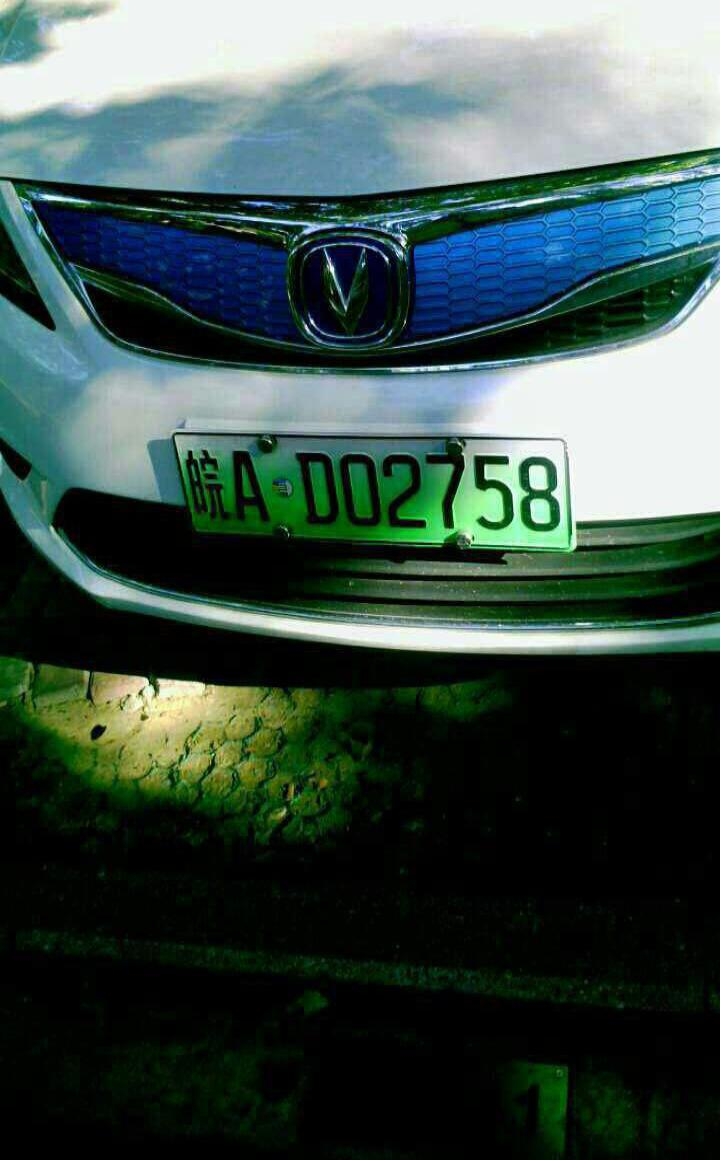car_id: (172, 427, 578, 544)
